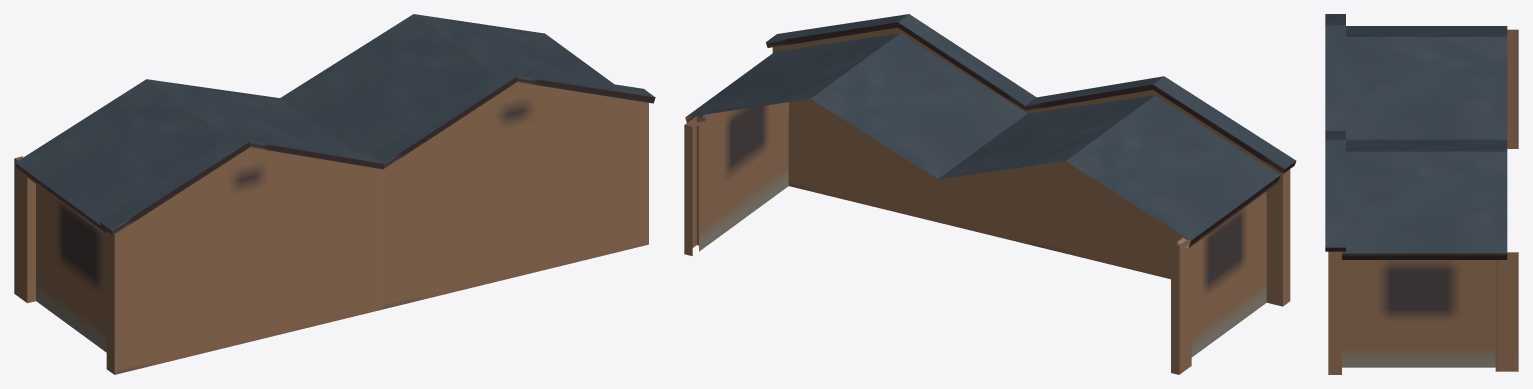
The model's file is Universal_Building_Warehouse_L1_01_Mod.fbx.
3 views of the same model, side by side, from view 1: azimuth 30°, elevation 25°; view 2: azimuth 150°, elevation 25°; view 3: azimuth 270°, elevation 25° (orthographic). The views are drawn at different scales.
Visible parts, largest first — view 1: Universal_Building_Warehouse_L1_01_Mod; view 2: Universal_Building_Warehouse_L1_01_Mod; view 3: Universal_Building_Warehouse_L1_01_Mod.
Boxes of the visible parts, x1,y1,x2,y2 form: Universal_Building_Warehouse_L1_01_Mod: (14,14,655,374); Universal_Building_Warehouse_L1_01_Mod: (684,14,1296,374); Universal_Building_Warehouse_L1_01_Mod: (1325,14,1518,374).
Bounding box in the file's own units: 1196 × 424 × 419.
